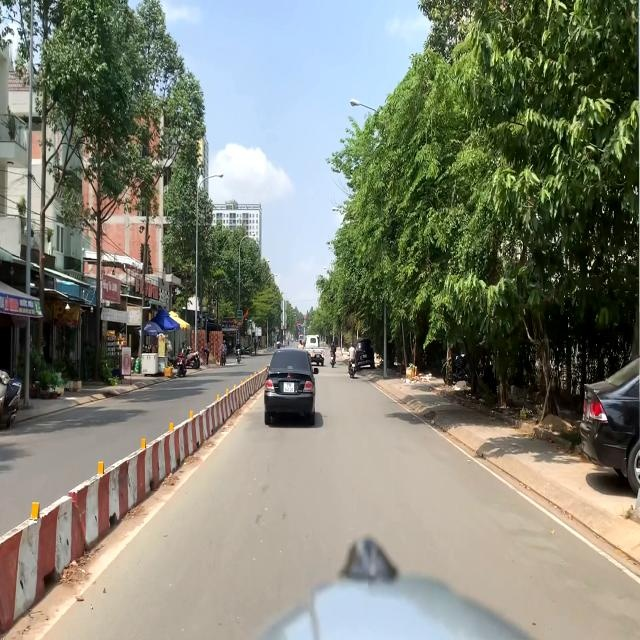bien_cam: (298, 321, 300, 327), (298, 326, 300, 332)
